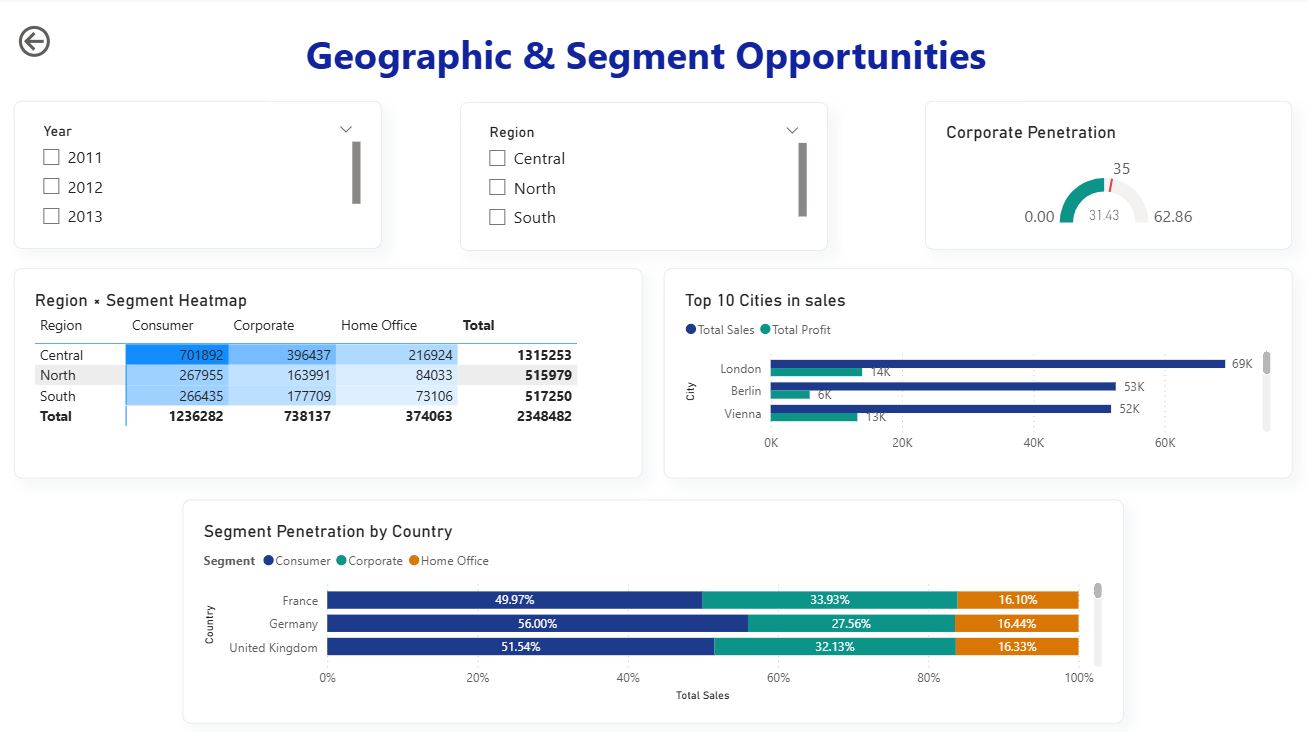

Layout of this report page (visuals, bound fields, positions):
{"tool":"powerbi","page":{"name":"Geographic & Segment Opportunities","canvas":[1280,720],"ordinal":1},"visuals":[{"type":"hundredPercentStackedBarChart","title":"Segment Penetration by Country","fields":{"Category":["Fact_Orders.Country"],"Series":["Fact_Orders.Segment"],"Y":["Fact_Orders.Total Sales"]},"box":[178.5,491.6,920.8,218.9],"z":0},{"type":"pivotTable","title":"Region × Segment Heatmap","fields":{"Rows":["Fact_Orders.Region"],"Columns":["Fact_Orders.Segment"],"Values":["Fact_Orders.Total Sales"]},"box":[13.5,265.4,615.1,205.4],"z":1000},{"type":"clusteredBarChart","title":"Top 10 Cities in sales","fields":{"Category":["Fact_Orders.City"],"Y":["Fact_Orders.Total Sales","Fact_Orders.Total Profit"]},"box":[649.3,265.4,615.1,205.4],"z":2000},{"type":"gauge","title":"Corporate Penetration","fields":{"Y":["Fact_Orders.Corporate Penetration %"]},"box":[904.9,101.5,359.5,145.5],"z":3000},{"type":"slicer","fields":{"Values":["Fact_Orders.Region"]},"box":[450,102.7,360,145.5],"z":4000},{"type":"slicer","fields":{"Values":["Fact_Orders.Year"]},"box":[13.5,101.5,360,145],"z":5000},{"type":"textbox","box":[261.7,25.7,741,75.8],"z":6000},{"type":"actionButton","box":[13.5,23.2,100.3,40.4],"z":7000}]}

Visuals, with their boxes in screenshot pixels (x1, y1, x2, y2), scaled from the page's 1280x720 canvas onto the 1308x732 screenshot:
"Segment Penetration by Country" hundredPercentStackedBarChart: 182/500/1123/722
"Region × Segment Heatmap" pivotTable: 14/270/642/479
"Top 10 Cities in sales" clusteredBarChart: 664/270/1292/479
"Corporate Penetration" gauge: 925/103/1292/251
slicer - Fact_Orders.Region: 460/104/828/252
slicer - Fact_Orders.Year: 14/103/382/251
textbox: 267/26/1025/103
actionButton: 14/24/116/65
